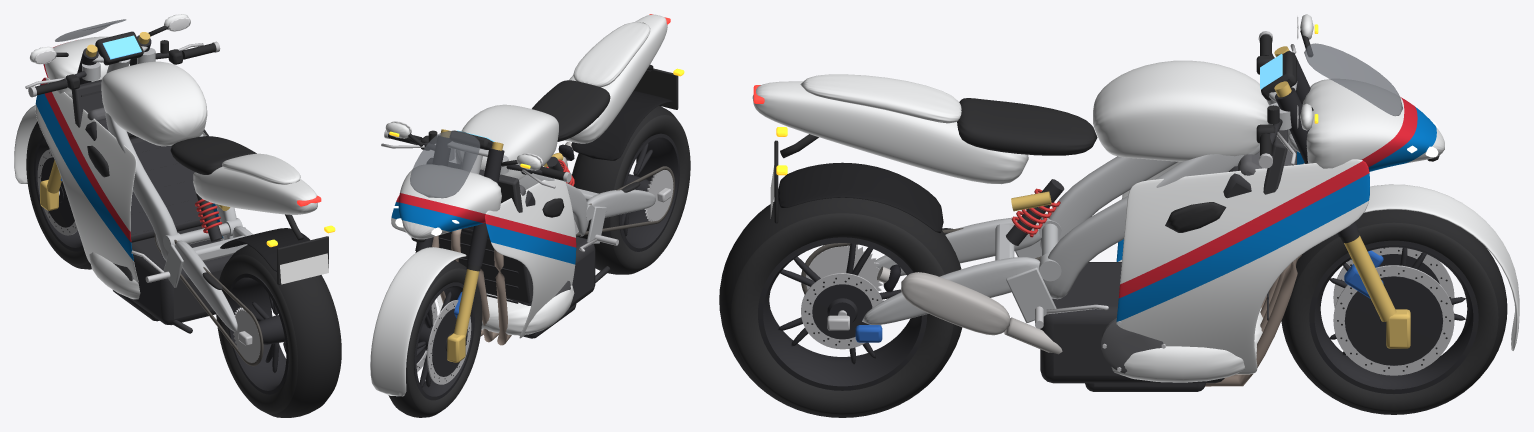
The picture shows the model from 3 angles, left to right: view 1: azimuth 30°, elevation 25°; view 2: azimuth 150°, elevation 25°; view 3: azimuth 270°, elevation 25°; orthographic projection. The views are drawn at different scales.
Visible parts, largest first — view 1: body, wheel_rear, swingarm, wheel_front, steer, fork_lower; view 2: body, wheel_rear, wheel_front, fork_lower, swingarm, steer; view 3: body, wheel_rear, wheel_front, swingarm, fork_lower, steer.
Boxes of the visible parts, x1,y1,x2,y2 form: body: [30, 14, 335, 333]; wheel_rear: [216, 245, 341, 417]; swingarm: [154, 223, 310, 366]; wheel_front: [26, 121, 91, 269]; steer: [25, 32, 220, 97]; fork_lower: [14, 105, 62, 210]; body: [385, 14, 684, 345]; wheel_rear: [572, 105, 690, 274]; wheel_front: [388, 260, 482, 417]; fork_lower: [370, 247, 480, 396]; swingarm: [571, 91, 674, 236]; steer: [381, 129, 571, 266]; body: [752, 14, 1444, 391]; wheel_rear: [719, 197, 962, 417]; wheel_front: [1281, 209, 1507, 414]; swingarm: [778, 162, 1058, 342]; fork_lower: [1340, 184, 1519, 350]; steer: [1256, 31, 1358, 237].
Size of the model in its own units: 0.78 by 1.05 by 2.12.
